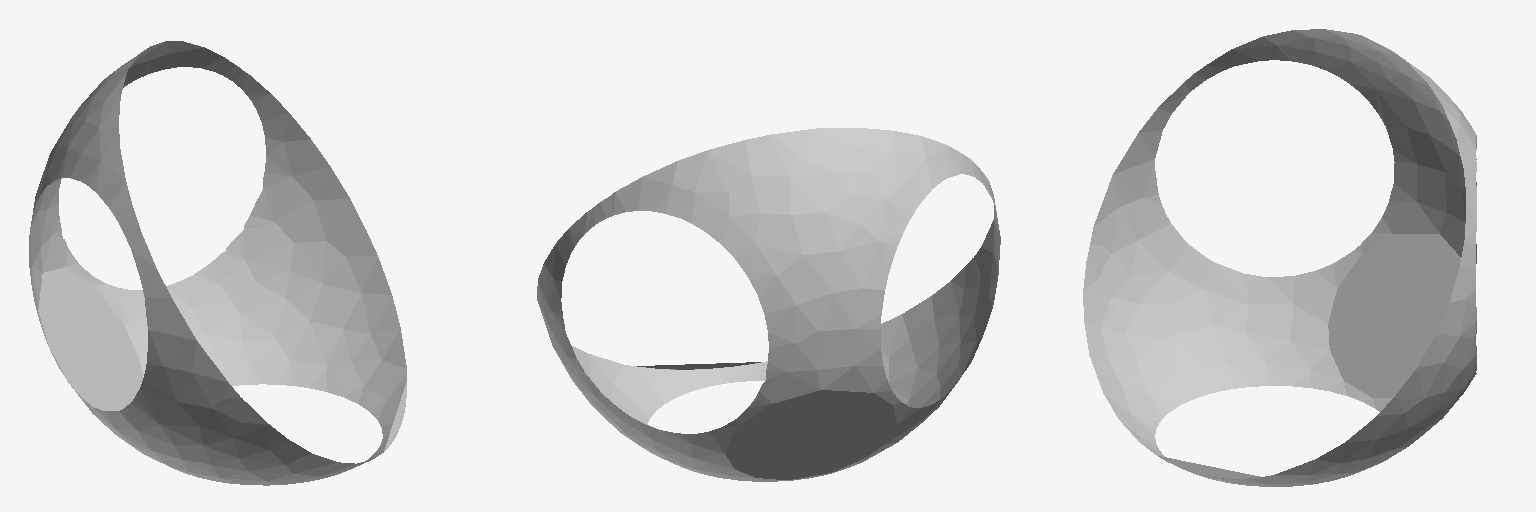
File: hemis_with_holes_3.obj
The picture shows the model from 3 angles: view 1: azimuth 30°, elevation 25°; view 2: azimuth 150°, elevation 25°; view 3: azimuth 270°, elevation 25°; orthographic projection.
Parts seen in each view (by area): view 1: <STL_BINARY>; view 2: <STL_BINARY>; view 3: <STL_BINARY>.
Boxes of the visible parts, x1,y1,x2,y2 form: <STL_BINARY>: [29, 41, 406, 485]; <STL_BINARY>: [537, 128, 1000, 481]; <STL_BINARY>: [1083, 29, 1476, 486].
Size of the model in its own units: 0.9953 by 0.9944 by 0.9949.